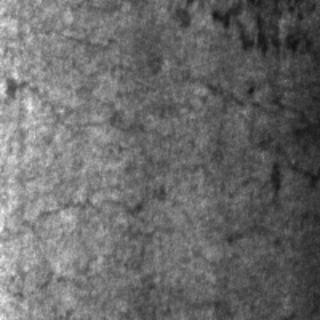crazing: (0, 63, 314, 235), (165, 1, 318, 52)
